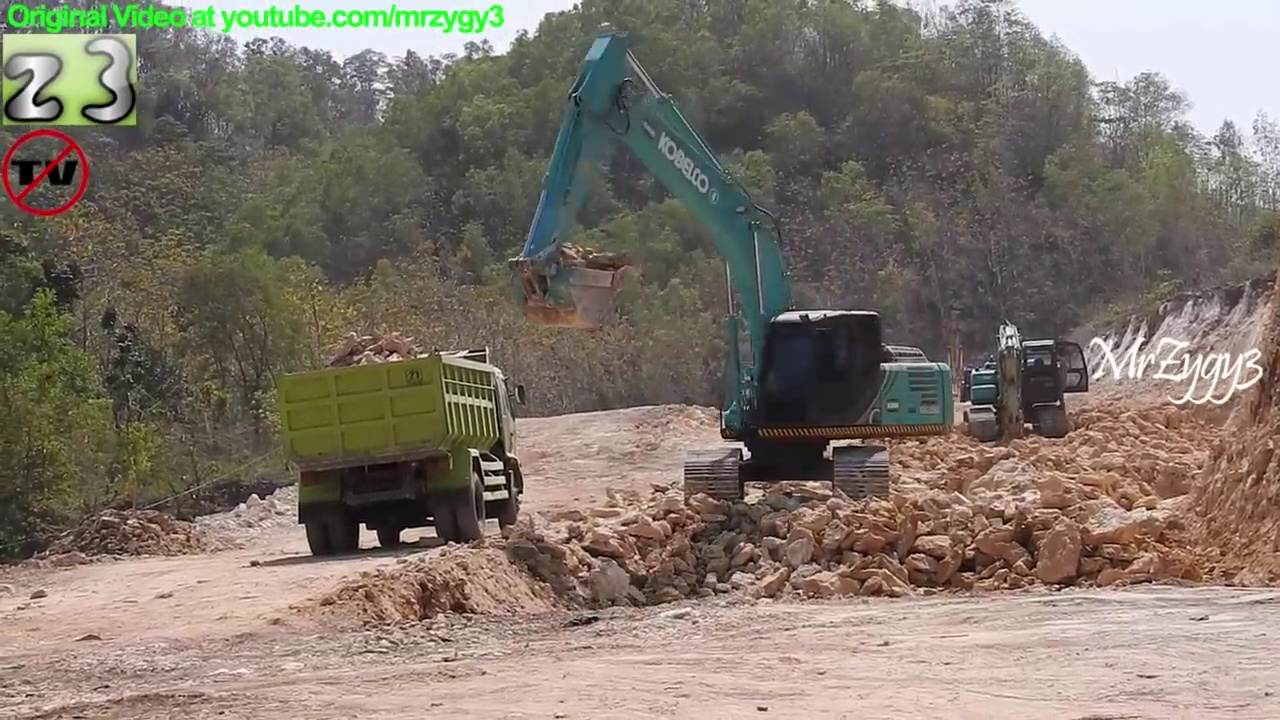excavator: (495, 13, 964, 513), (924, 300, 996, 416)
excavator breaker: (958, 312, 1096, 458)
truck: (272, 338, 533, 562)
